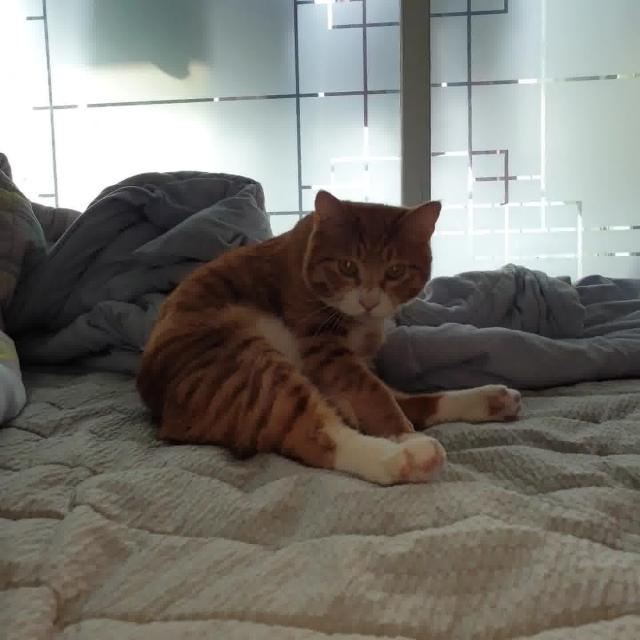cat: (115, 179, 537, 501)
